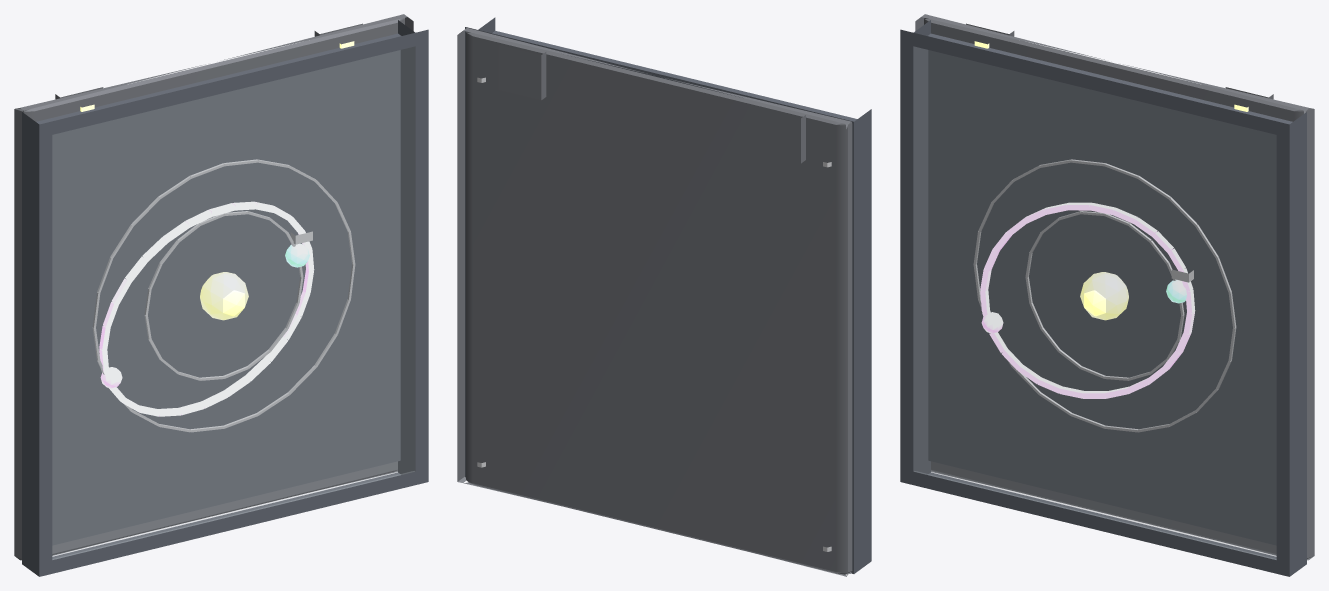
Rendered from iter_03.glb.
The picture shows the model from 3 angles, left to right: view 1: azimuth 30°, elevation 25°; view 2: azimuth 150°, elevation 25°; view 3: azimuth 330°, elevation 25°; orthographic projection.
Visible parts, largest first — view 1: Front_Glass, Box_Back, Box_Frame, Back_Plate, Cycler_Route, Mars_Orbit, Earth_Orbit, Sun; view 2: Back_Plate, Box_Frame, Rail_Hooks; view 3: Front_Glass, Box_Back, Box_Frame, Back_Plate, Cycler_Route, Mars_Orbit, Sun, Earth_Orbit.
Boxes of the visible parts, <box> form: Front_Glass: <box>52,47,415,559</box>; Box_Back: <box>52,50,400,545</box>; Box_Frame: <box>22,20,428,576</box>; Back_Plate: <box>14,14,413,560</box>; Cycler_Route: <box>99,201,314,416</box>; Mars_Orbit: <box>92,159,355,432</box>; Earth_Orbit: <box>144,211,303,380</box>; Sun: <box>200,272,248,320</box>; Back_Plate: <box>457,28,852,576</box>; Box_Frame: <box>465,17,871,573</box>; Rail_Hooks: <box>498,44,805,163</box>; Front_Glass: <box>913,47,1276,559</box>; Box_Back: <box>928,50,1276,545</box>; Box_Frame: <box>900,20,1306,576</box>; Back_Plate: <box>915,14,1314,560</box>; Cycler_Route: <box>980,202,1195,398</box>; Mars_Orbit: <box>973,159,1236,432</box>; Sun: <box>1080,272,1128,320</box>; Earth_Orbit: <box>1025,211,1184,380</box>.
Bounding box in the file's own units: 0.9 × 1 × 0.12.
